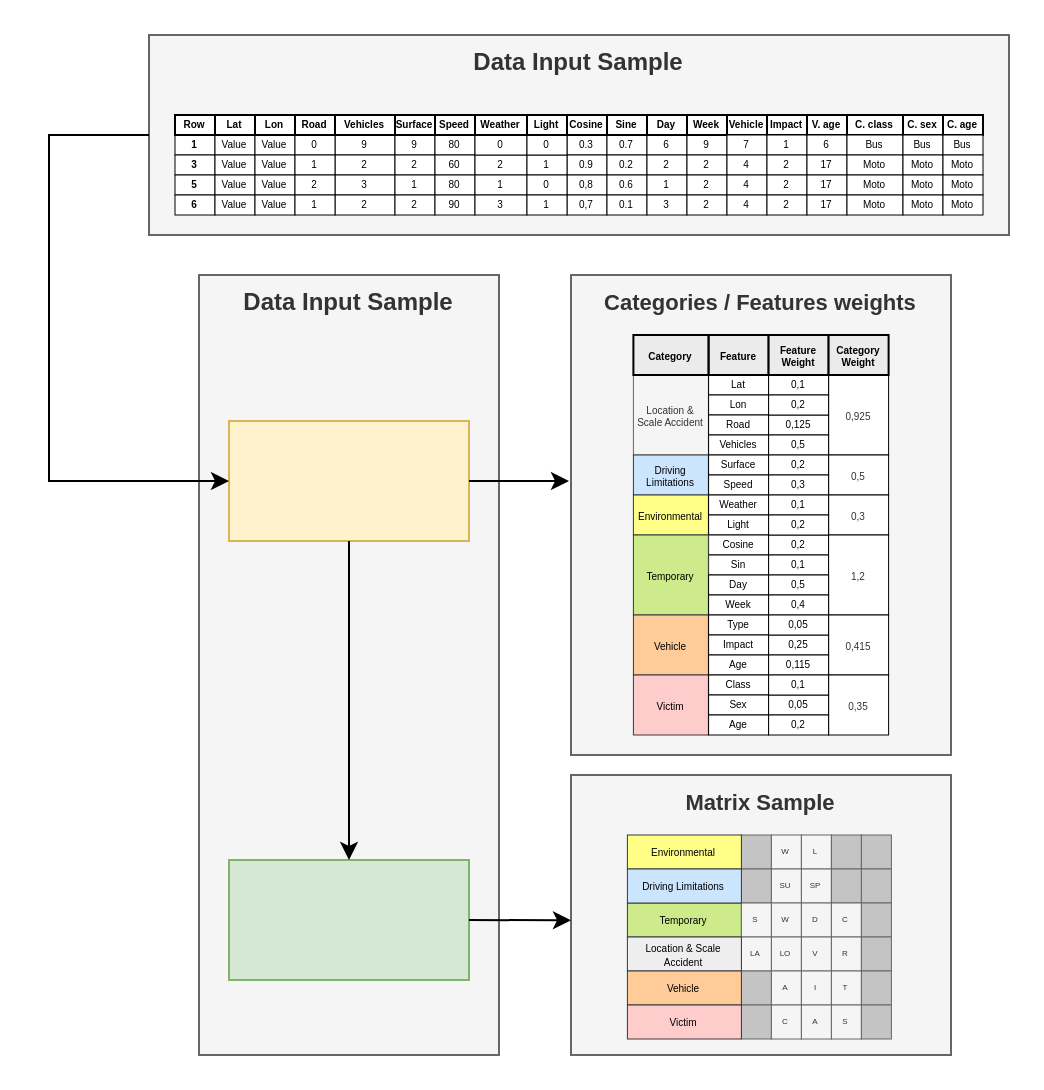
The diagram is 1044 pixels wide and 1090 high, and some of its shapes have lost their labels. The centre of each missing label's shape, as x and y in pixels:
Genetic Algorithm: [348,480]
Matrix Construction: [348,919]
